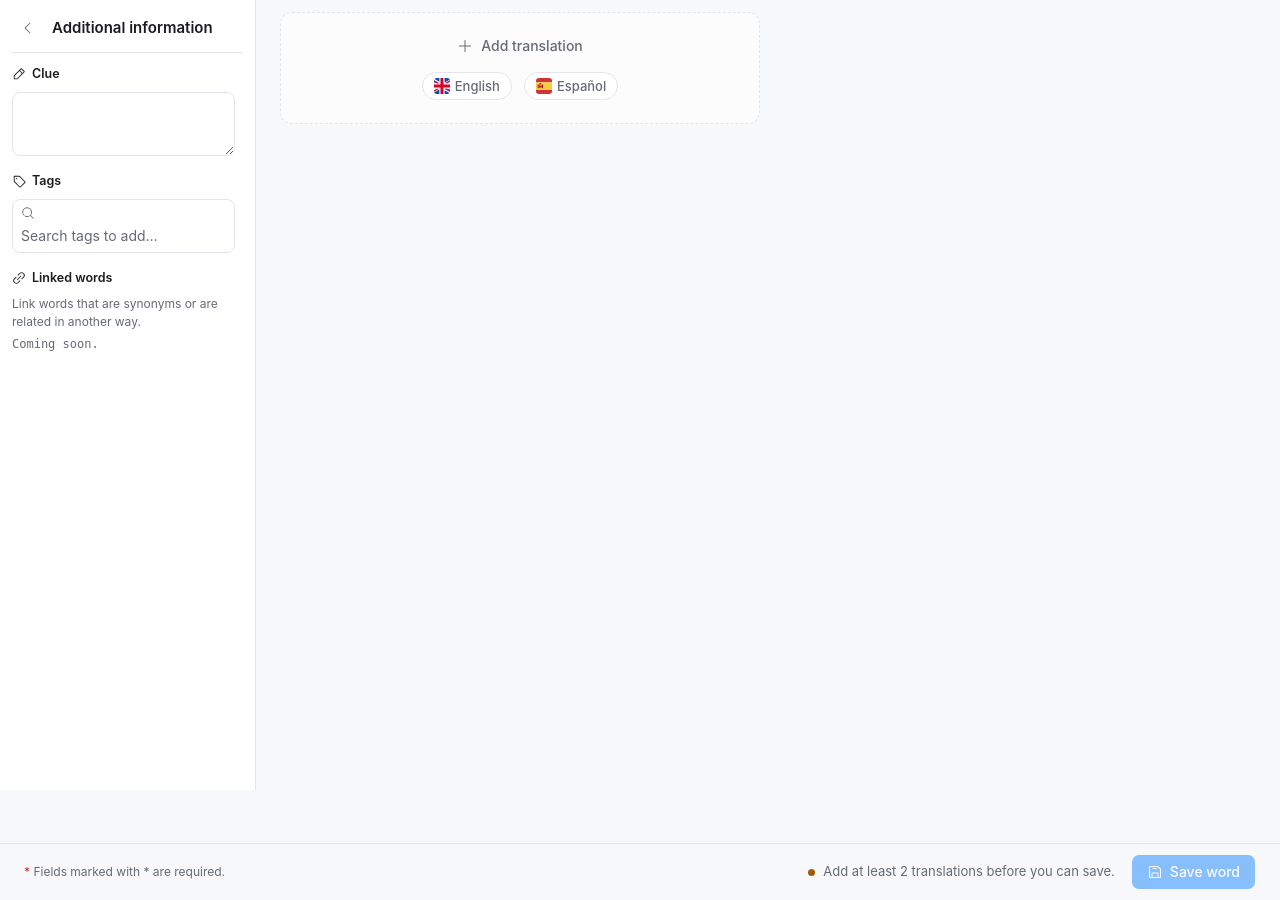
WordForm — create mode › lists the free languages as chips under "Add translation"; a click adds the card and drops its chip
Expected: the button "Español" is shown, [524,72,618,100]
Click the button "English". click: (467, 86)
box: [422,72,512,100]
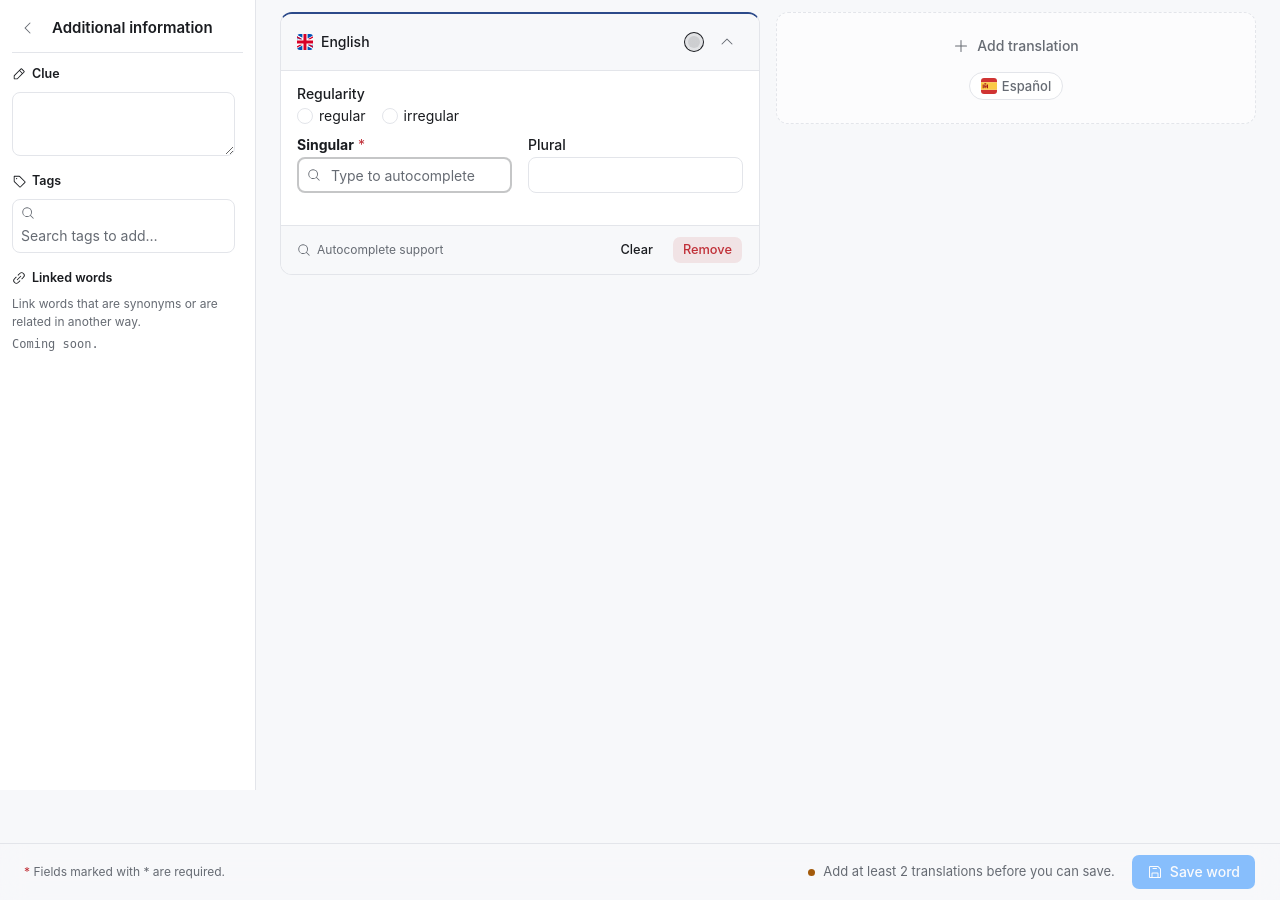
Expected: the button "Español" is shown, [969,72,1063,100]
Expected: the dropdown labelled "Singular" is shown, [297,157,512,193]
